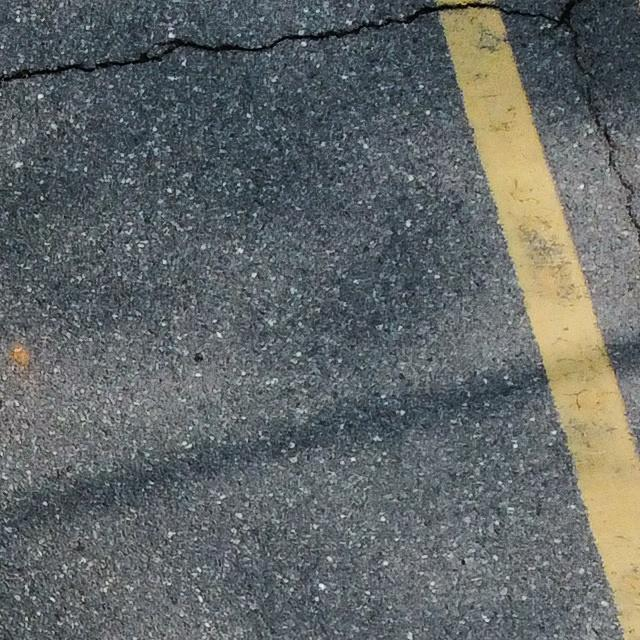LongitudinalCrack: (565, 3, 640, 242)
TransverseCrack: (2, 1, 566, 82)
